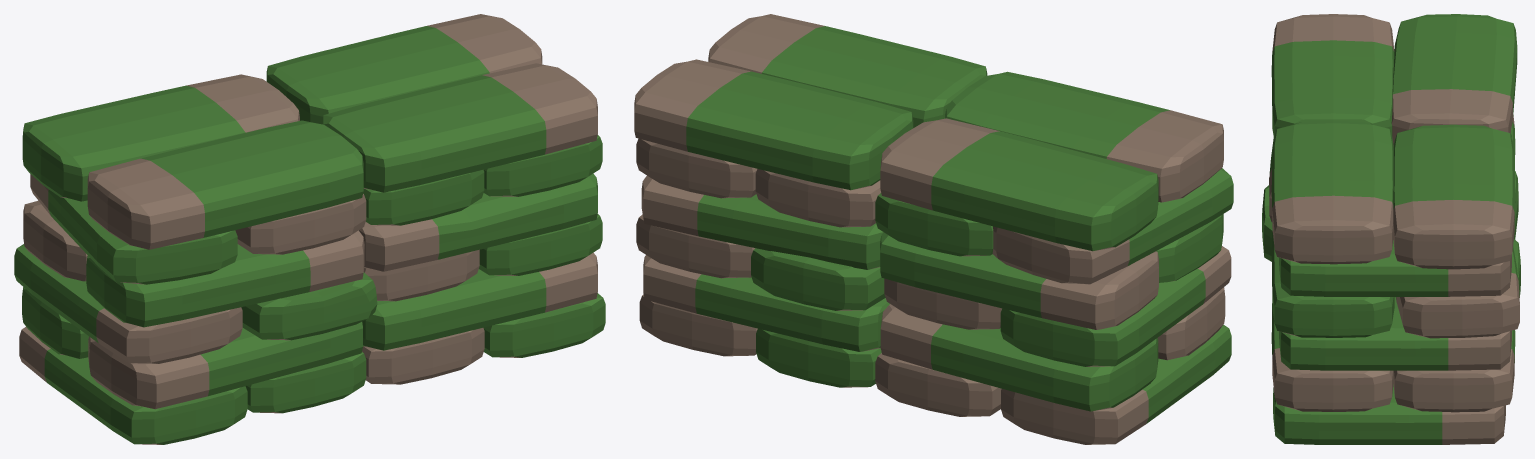
File: CementC1_01.fbx
3 renders of one model, left to right at view 1: azimuth 30°, elevation 25°; view 2: azimuth 150°, elevation 25°; view 3: azimuth 270°, elevation 25°, orthographic. The views are drawn at different scales.
Visible parts, largest first — view 1: CementC1_01; view 2: CementC1_01; view 3: CementC1_01.
Boxes of the visible parts, <box> form: CementC1_01: <box>14,14,605,444</box>; CementC1_01: <box>634,14,1233,444</box>; CementC1_01: <box>1262,14,1520,444</box>.
Bounding box in the file's own units: 146 × 68.51 × 71.45.
